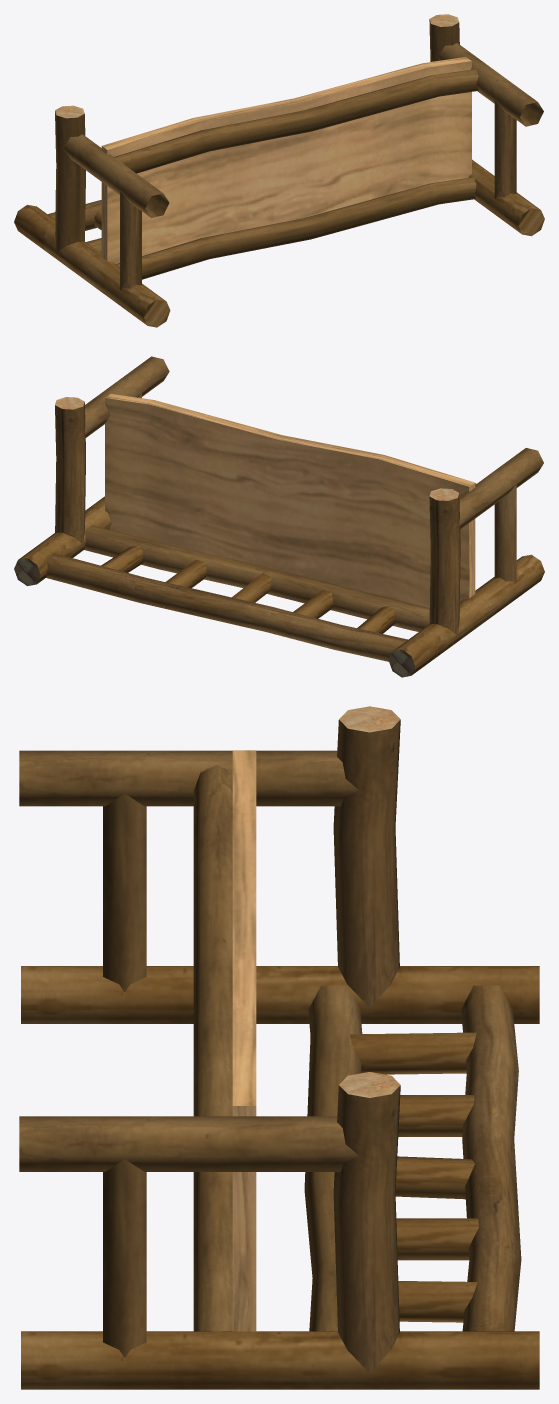
Rendered from Bench_C.fbx.
The picture shows the model from 3 angles, top to bottom: view 1: azimuth 30°, elevation 25°; view 2: azimuth 150°, elevation 25°; view 3: azimuth 270°, elevation 25°; orthographic projection. The views are drawn at different scales.
Parts seen in each view (by area): view 1: Bench_C; view 2: Bench_C; view 3: Bench_C.
Part boxes in pixels (bbox=[...]): Bench_C: bbox=[14, 14, 544, 327]; Bench_C: bbox=[14, 356, 544, 677]; Bench_C: bbox=[19, 706, 539, 1389].
Bounding box in the file's own units: 44.74 × 16.17 × 25.11.
